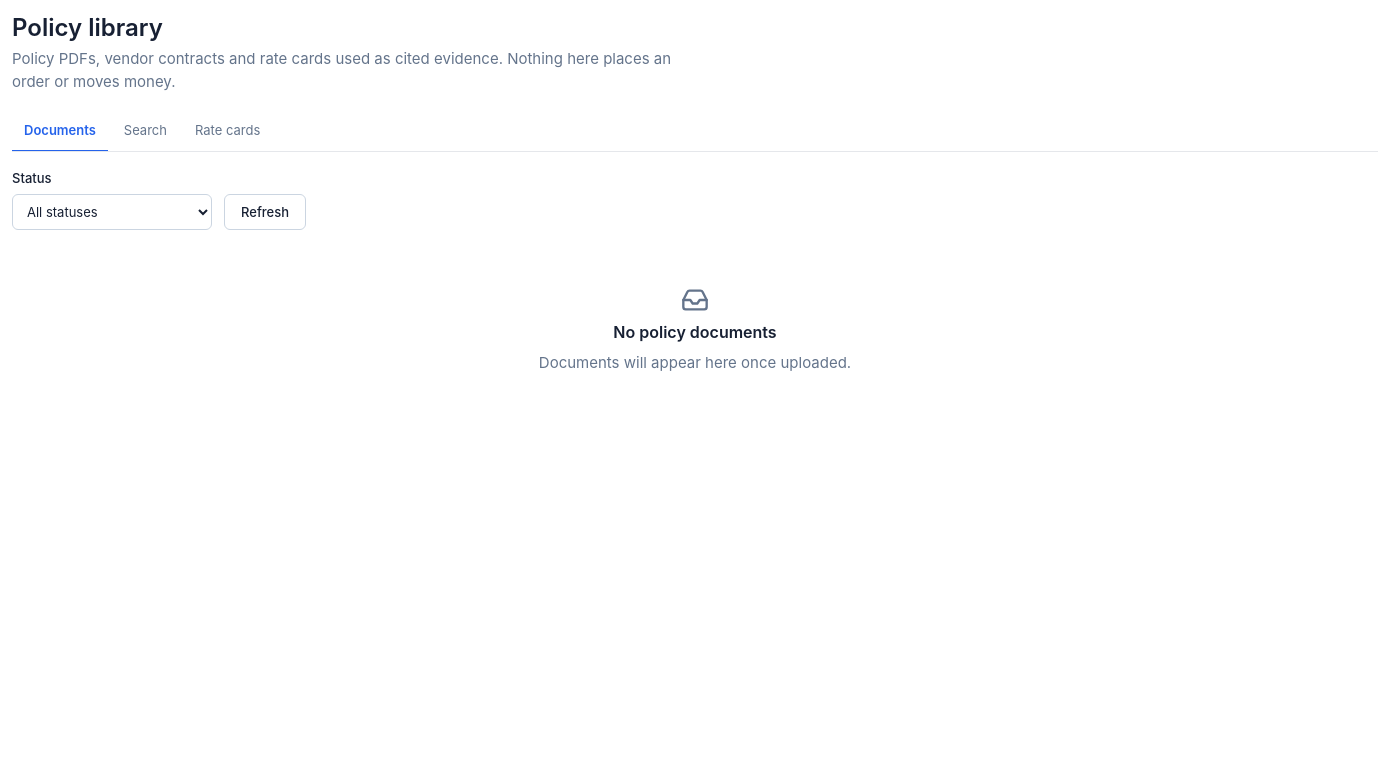
Test: PolicyLibraryPage — search › shows a server error and keeps the query
Click the tab "Search" at (145, 131), box x1=112 y1=110 x2=179 y2=152
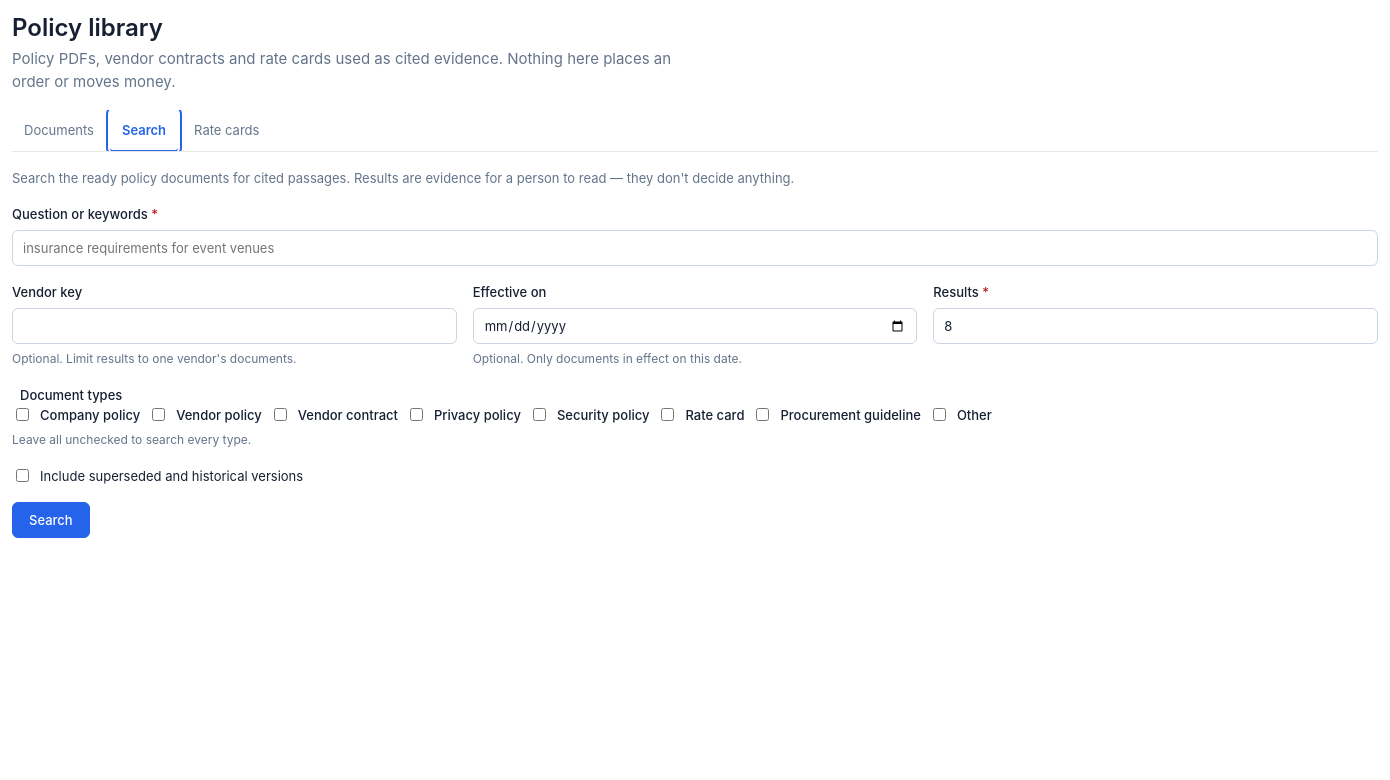
Type "catering" into the search field labelled "Question or keywords" at (695, 248), box x1=12 y1=230 x2=1378 y2=266
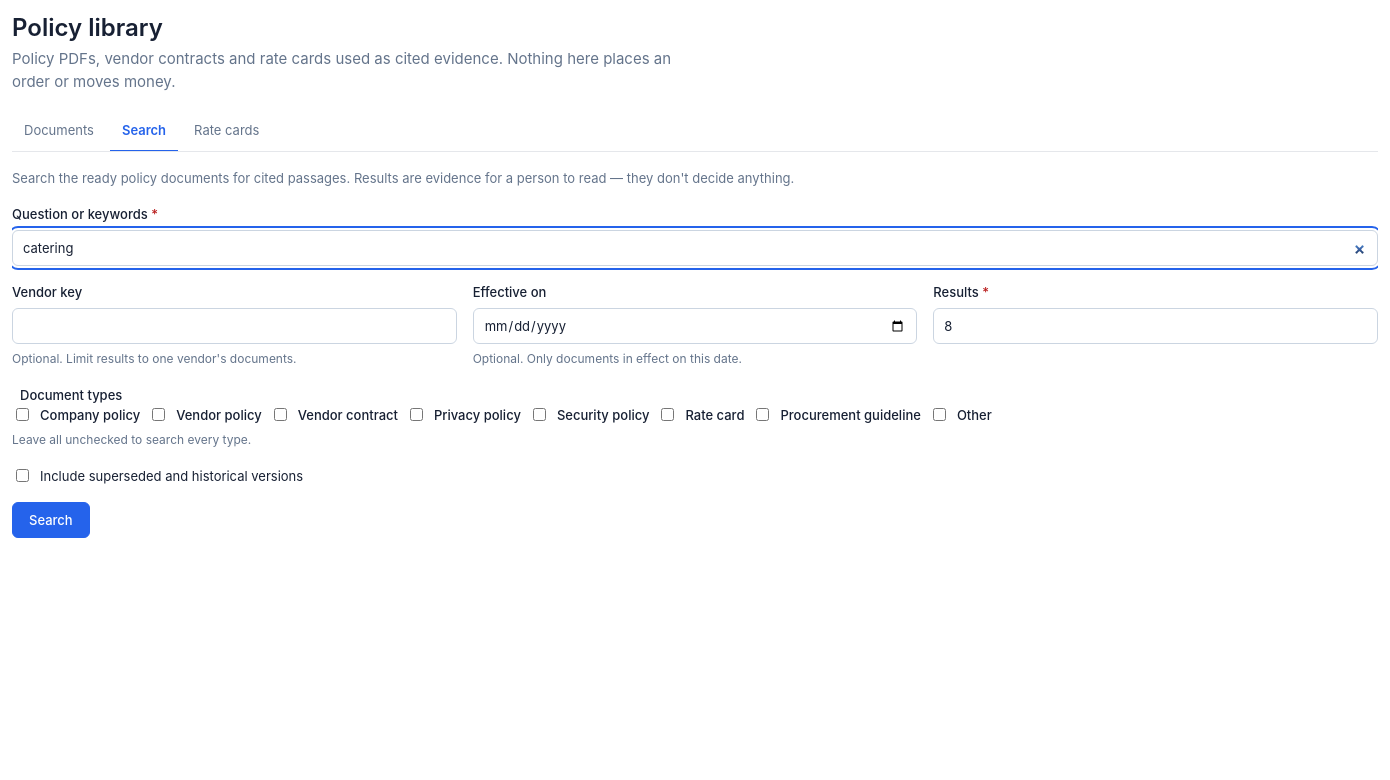
Click the button "Search" at (51, 520), box x1=12 y1=502 x2=90 y2=538
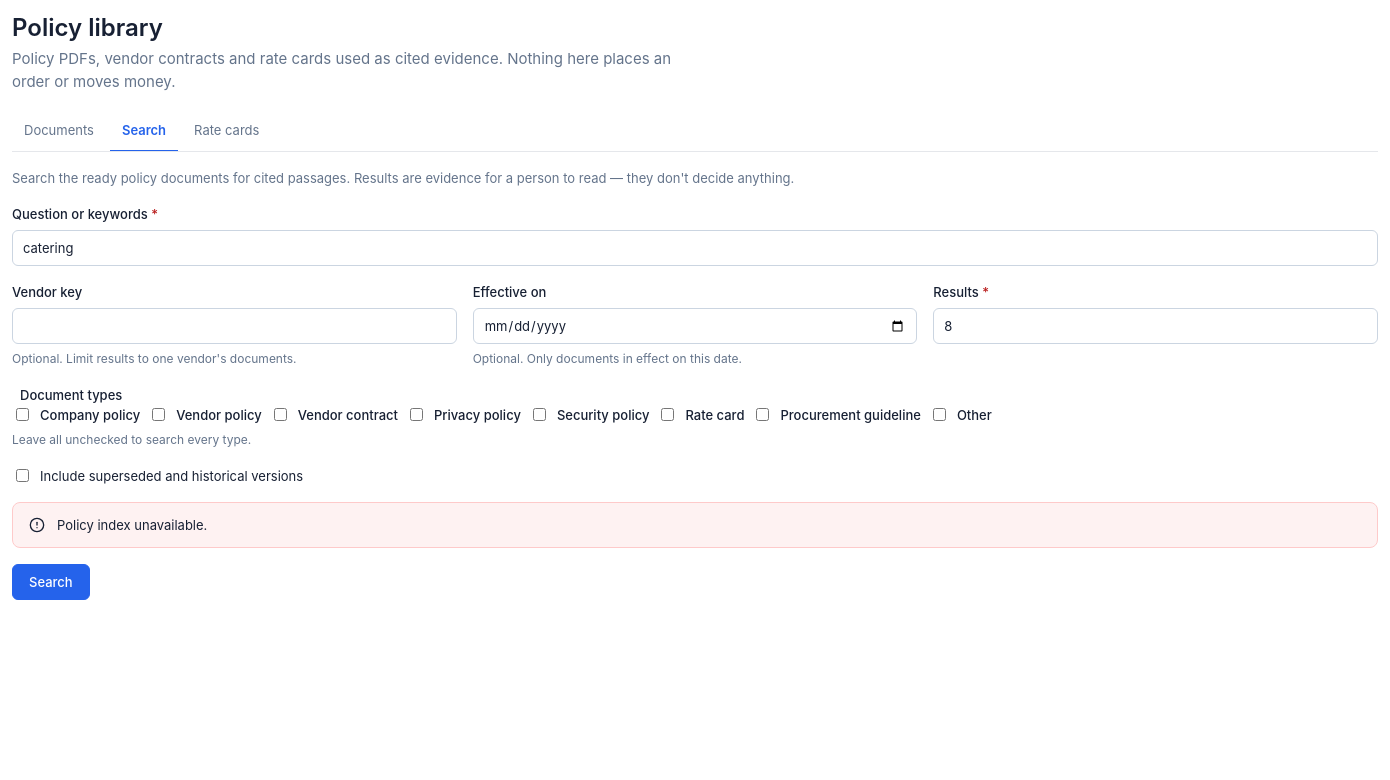
Now the text "Policy index unavailable." is shown, box x1=57 y1=515 x2=207 y2=535
